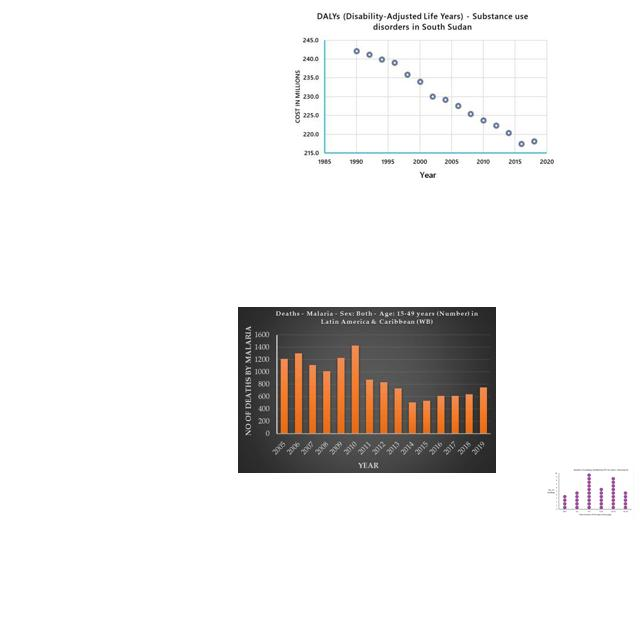Graph: (287, 7, 558, 182), (238, 307, 496, 473), (545, 467, 634, 518)
